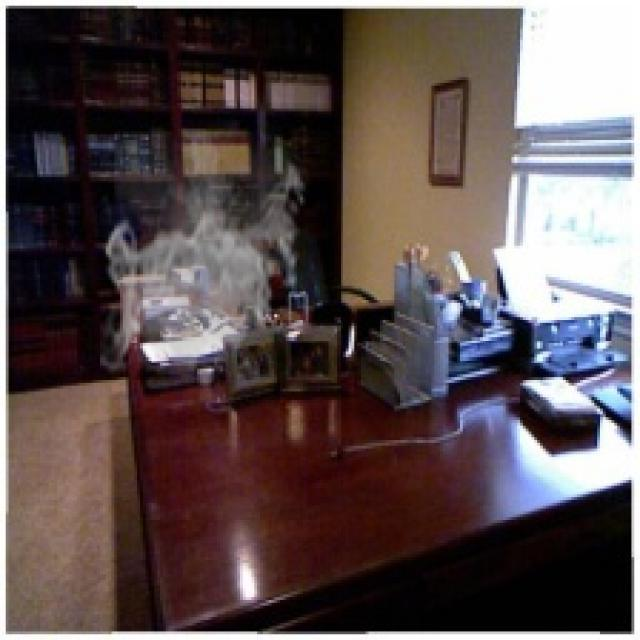Smoke: (100, 131, 312, 380)
